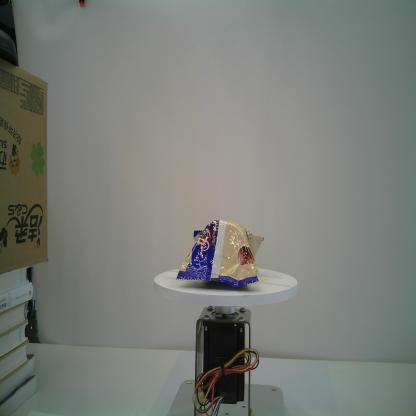Dessert: (175, 219, 264, 288)
